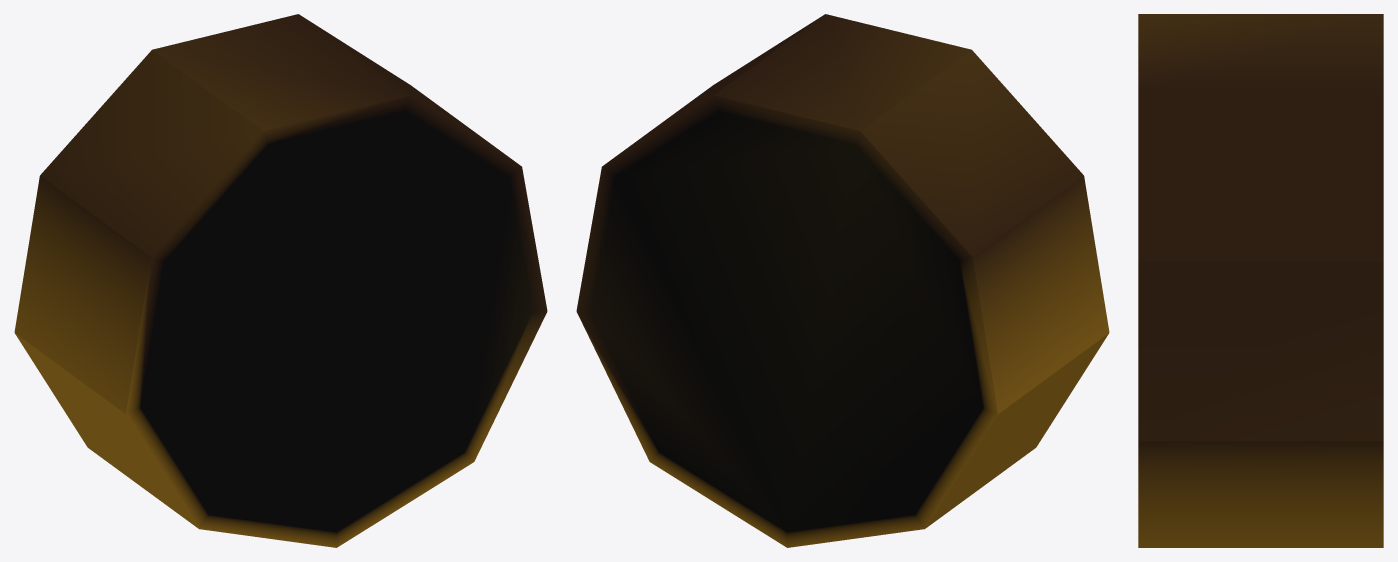
Rendered from Wheel.glb.
3 views of the same model, side by side, from view 1: azimuth 30°, elevation 25°; view 2: azimuth 150°, elevation 25°; view 3: azimuth 270°, elevation 25° (orthographic). The views are drawn at different scales.
Visible parts, largest first — view 1: Wheel; view 2: Wheel; view 3: Wheel.
Part boxes in pixels (x1,y1,x2,y2): Wheel: (14, 14, 547, 547); Wheel: (576, 14, 1109, 547); Wheel: (1138, 14, 1383, 547).
Bounding box in the file's own units: 0.8146 × 0.8022 × 0.3727.
